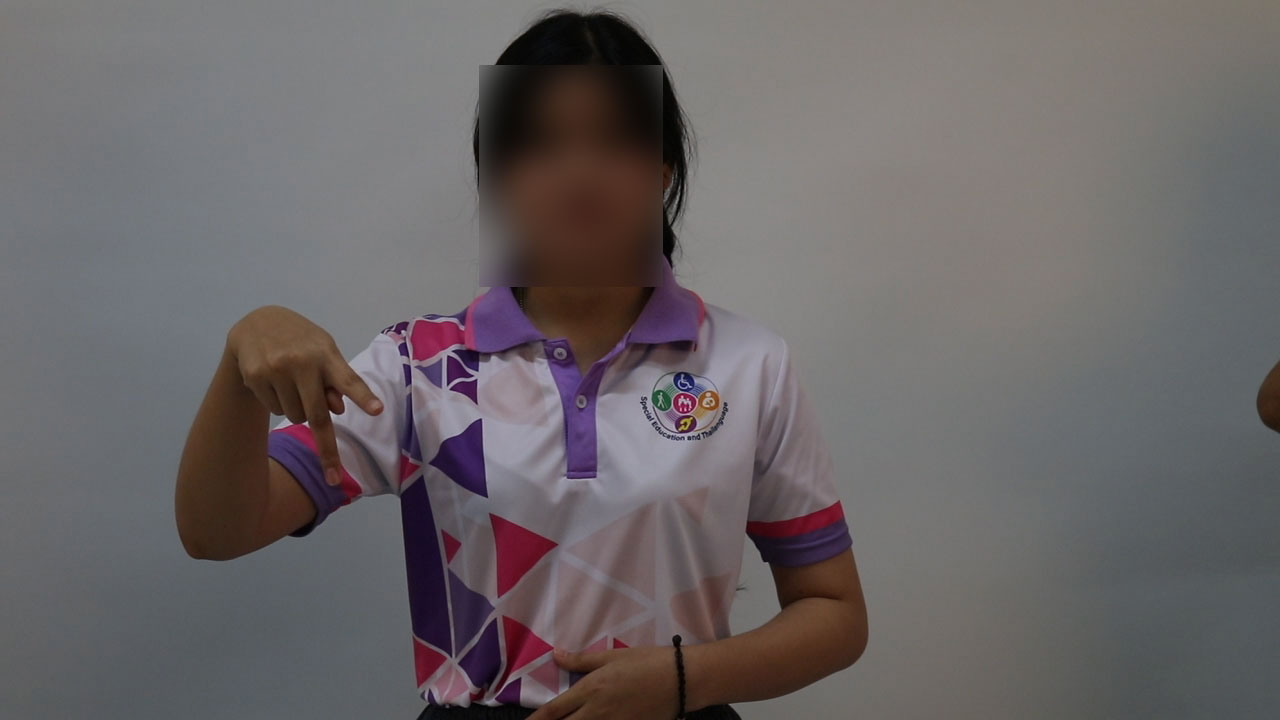por: (203, 273, 392, 495)
